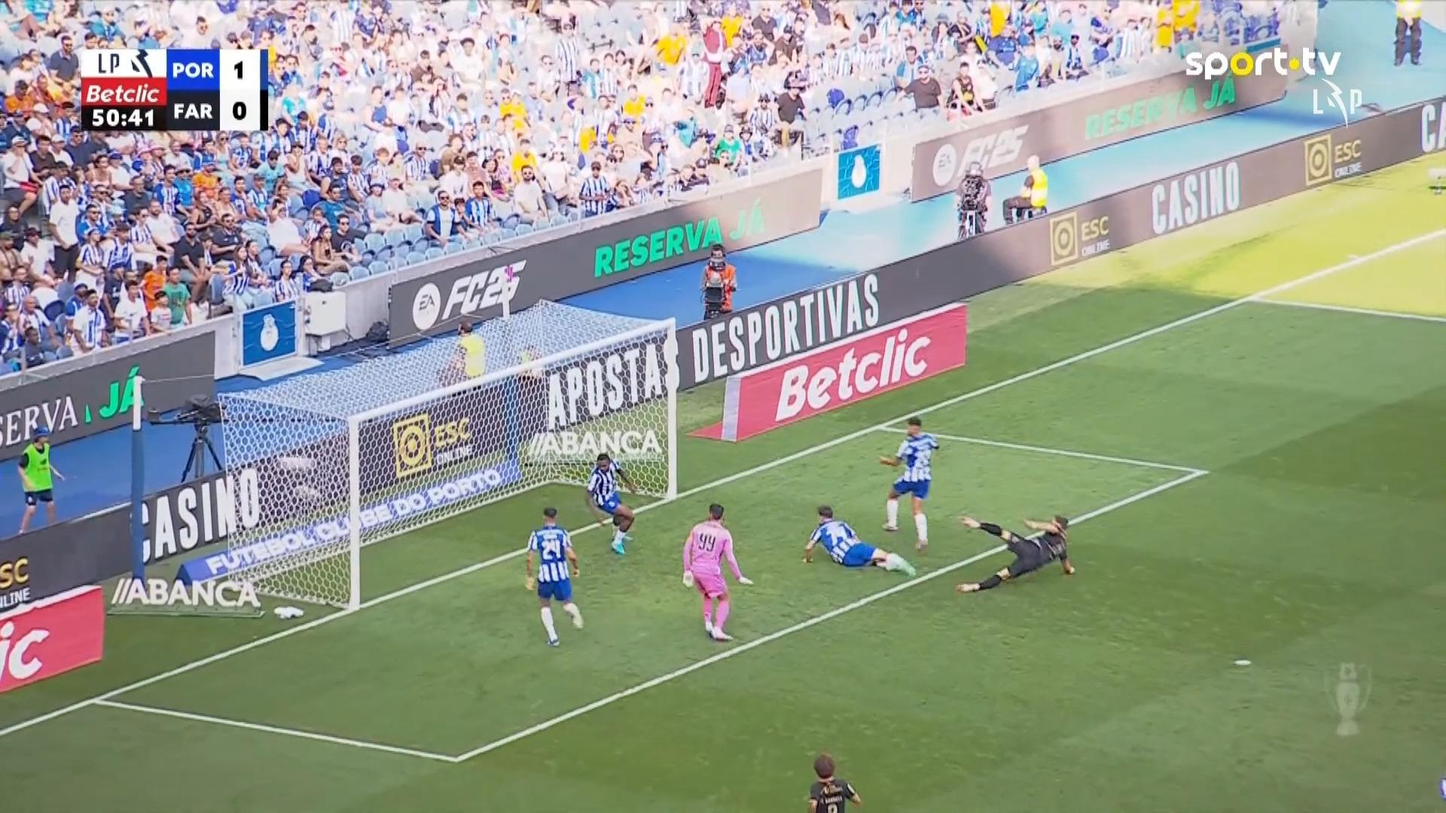ball: (682, 571, 694, 588)
goalkeeper: (681, 502, 754, 641)
player: (955, 513, 1075, 593), (523, 506, 584, 647), (877, 416, 939, 553), (801, 504, 916, 577), (584, 451, 639, 555), (807, 752, 862, 811)
